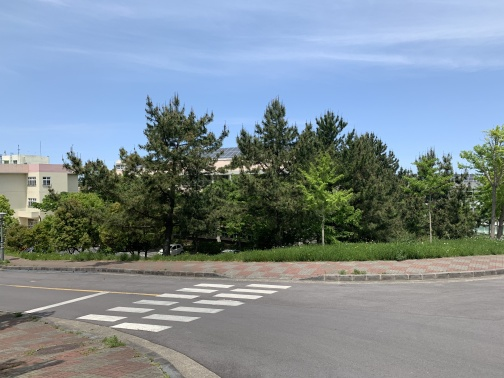College Of Education: (5, 151, 103, 223)
